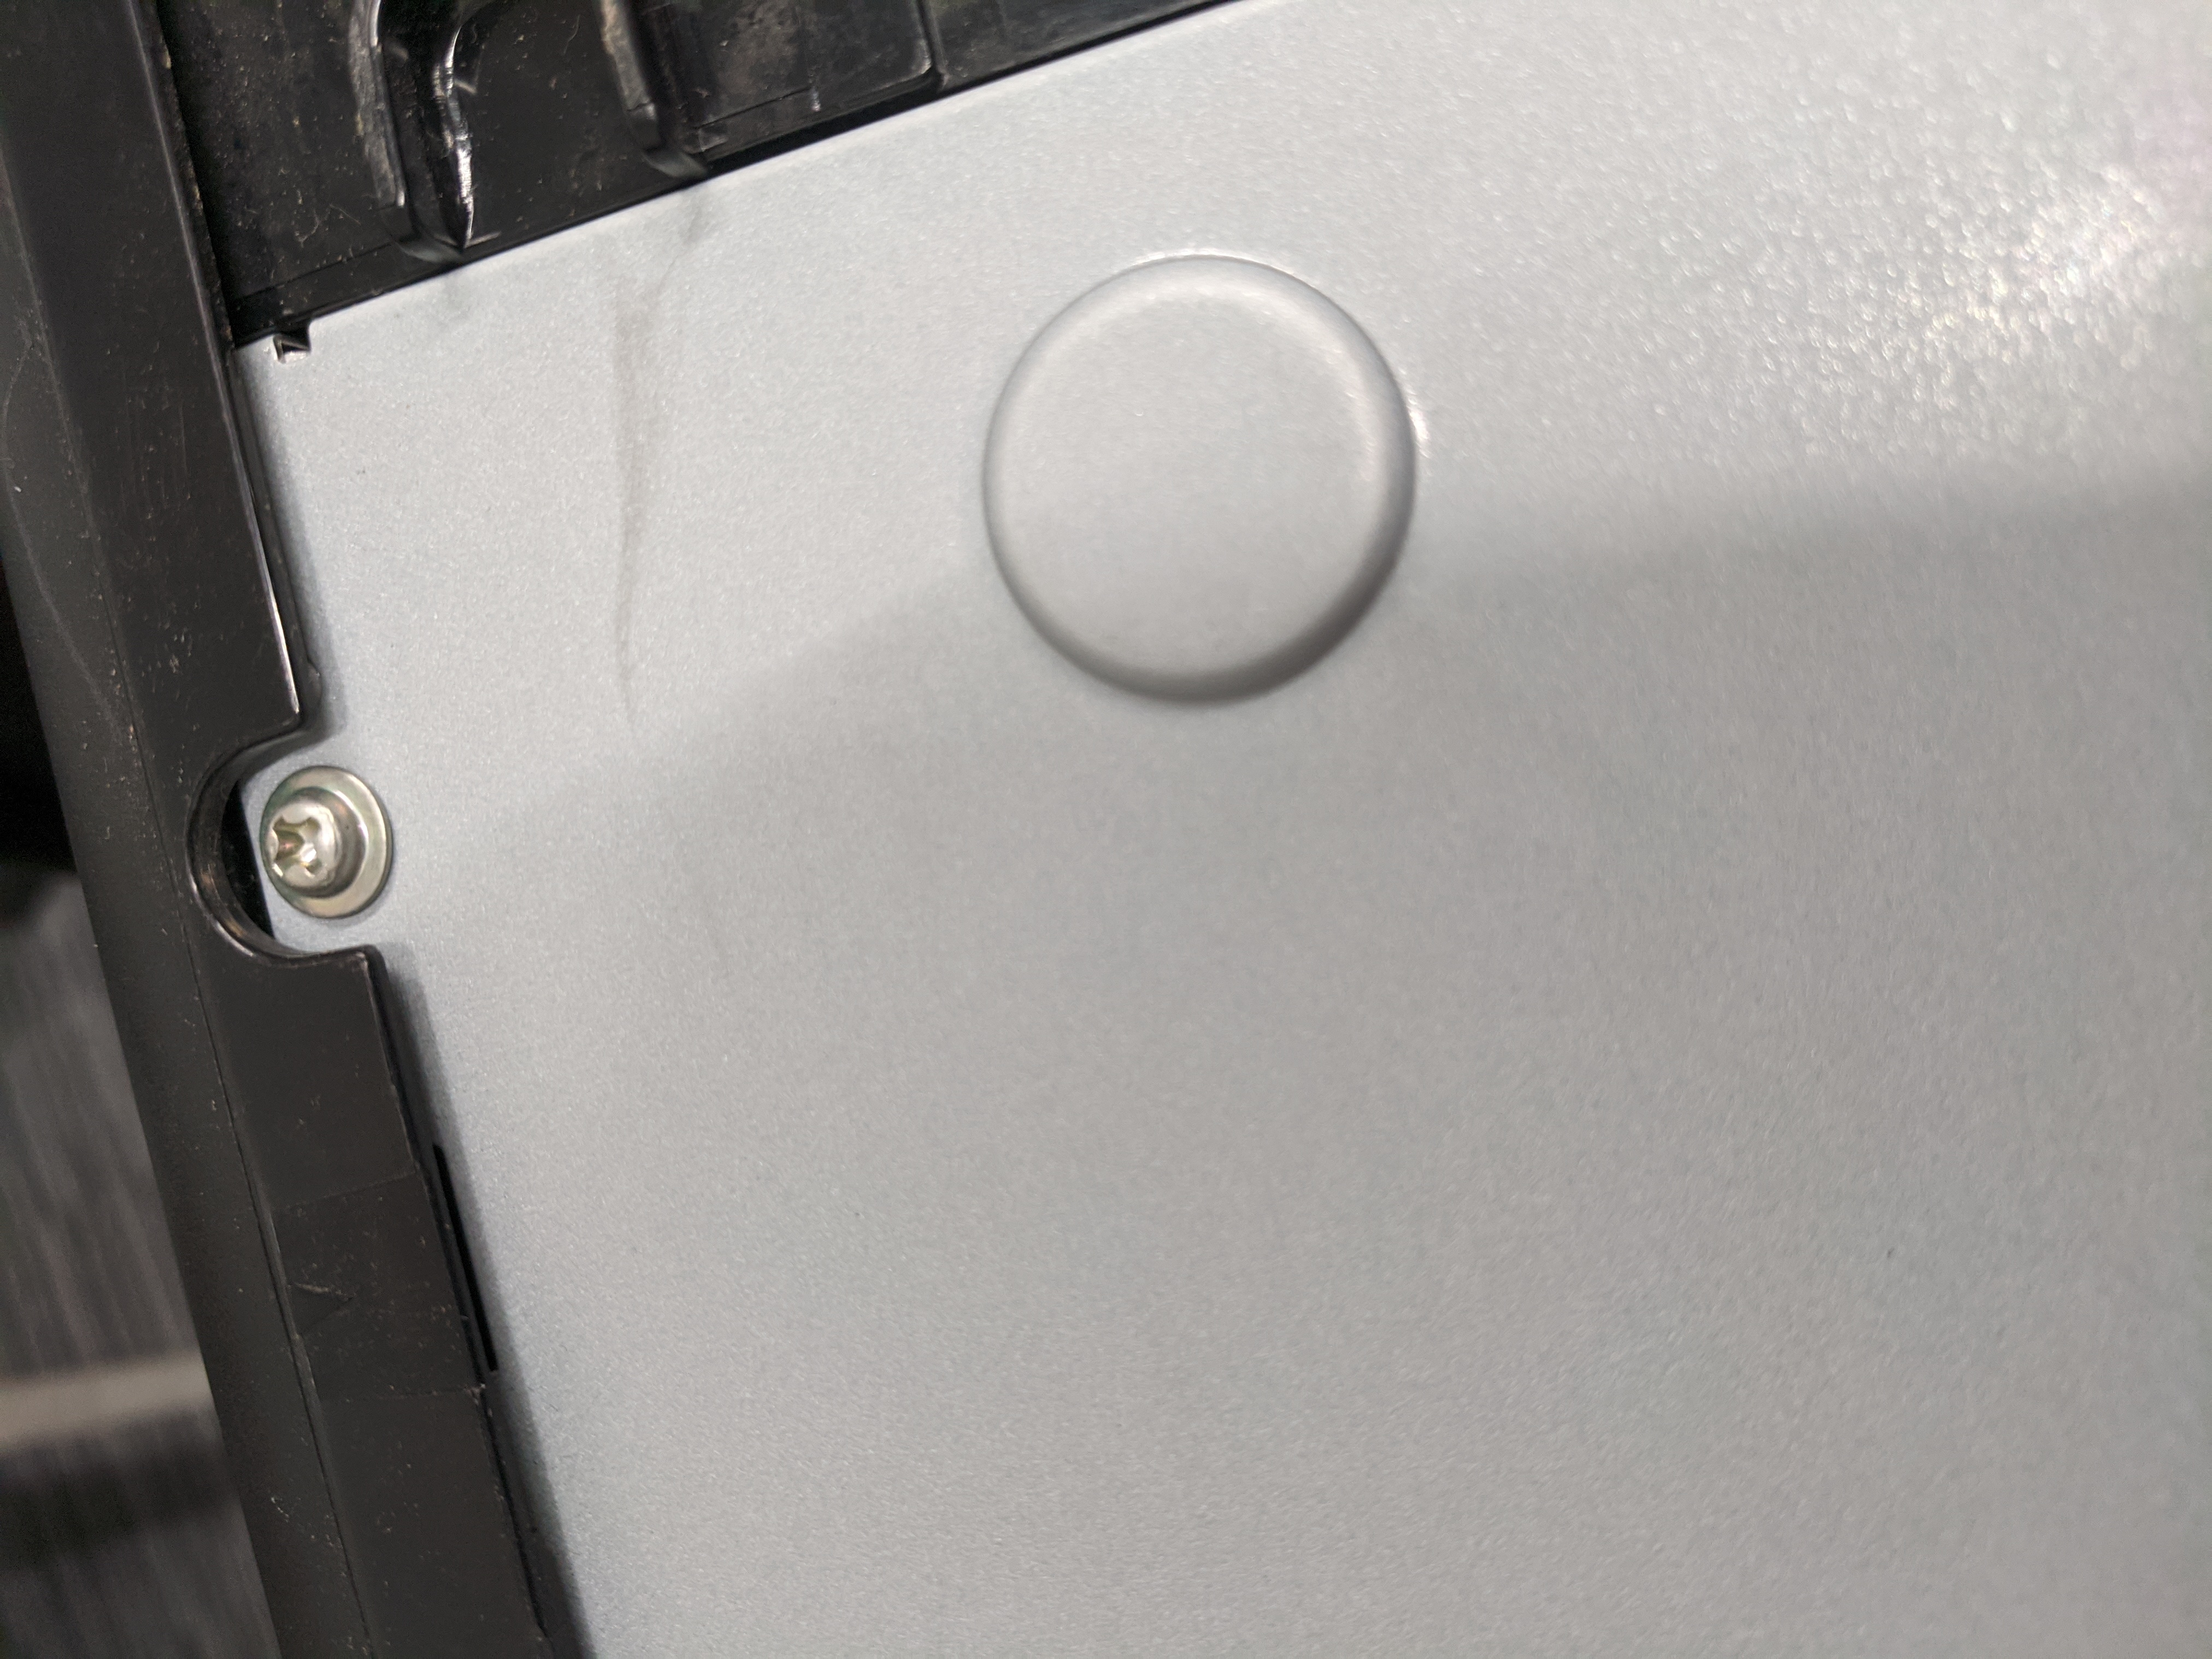cross_recessed_screw: (261, 774, 357, 910)
